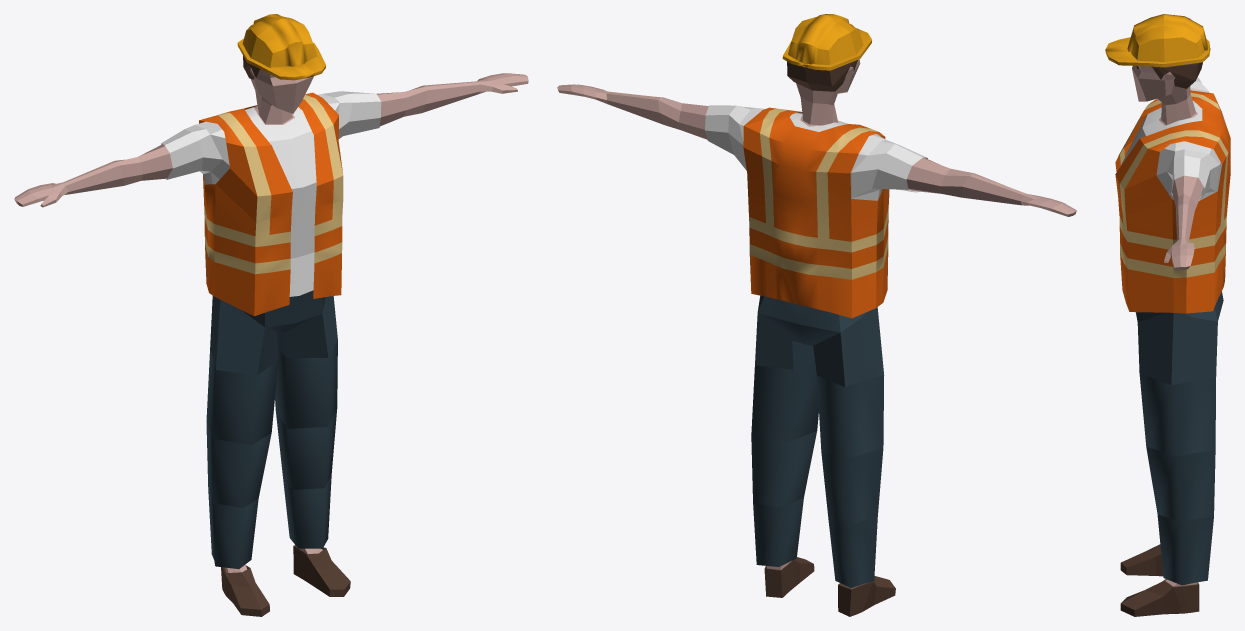
Rendered from budowlaniec.fbx.
3 views of the same model, side by side, from view 1: azimuth 30°, elevation 25°; view 2: azimuth 150°, elevation 25°; view 3: azimuth 270°, elevation 25° (orthographic).
Parts seen in each view (by area): view 1: man armature; view 2: man armature; view 3: man armature.
Part boxes in pixels (x1,y1,x2,y2): man armature: (14,14,528,616); man armature: (557,14,1076,616); man armature: (1105,14,1230,616).
Size of the model in its own units: 962 by 1033 by 203.
